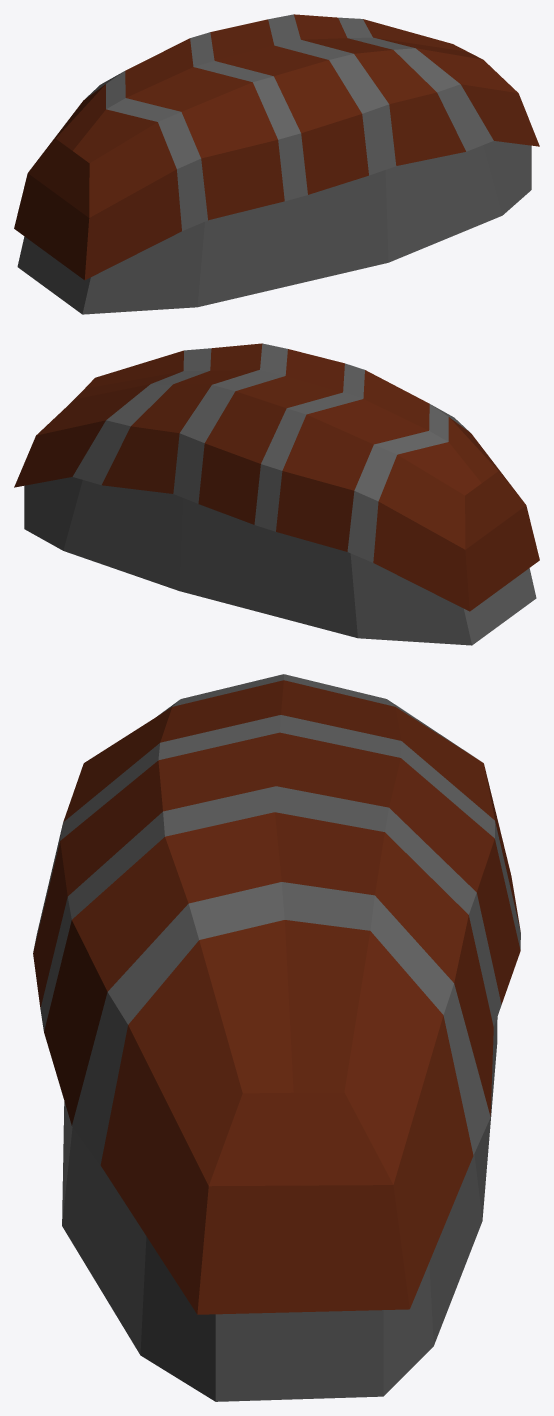
The model's file is Sushi_Nigiri1.obj.
3 renders of one model, top to bottom at view 1: azimuth 30°, elevation 25°; view 2: azimuth 150°, elevation 25°; view 3: azimuth 270°, elevation 25°, orthographic. The views are drawn at different scales.
Parts seen in each view (by area): view 1: Sushi_Nigiri1_Cube.014; view 2: Sushi_Nigiri1_Cube.014; view 3: Sushi_Nigiri1_Cube.014.
Part boxes in pixels (<box>): Sushi_Nigiri1_Cube.014: <box>14,14,539,314</box>; Sushi_Nigiri1_Cube.014: <box>14,343,539,645</box>; Sushi_Nigiri1_Cube.014: <box>33,674,520,1401</box>.
Bounding box in the file's own units: 0.5976 × 0.2344 × 0.2716.
